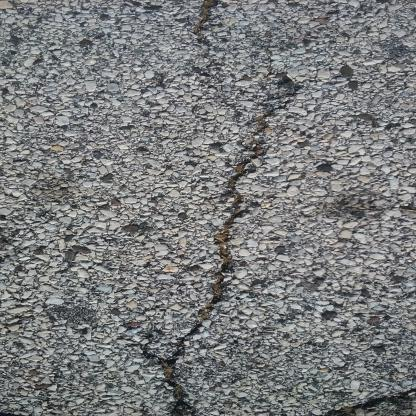Cracks: (141, 81, 279, 415)
